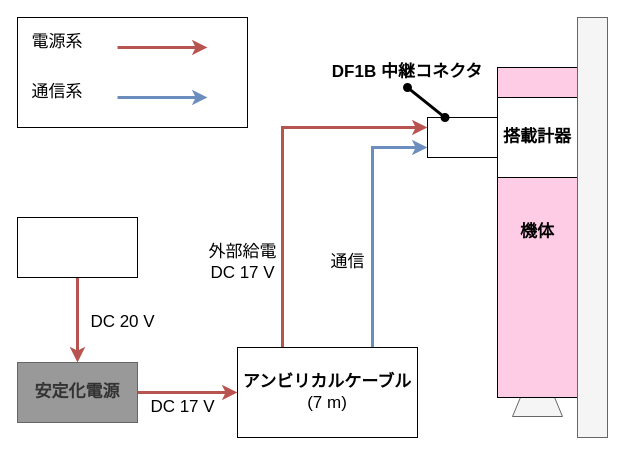
The diagram is 625 pixels wide and 455 high, and some of its shapes have lost their labels. Here are the shapes that lost their labels. From the top down, the centre of each, then its label:
At [77,247]: "ポータブル バッテリー".
At [592,227]: "ランチャ".
